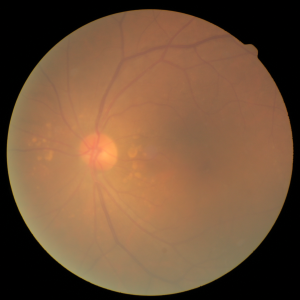cataract: (34, 93, 234, 207)
